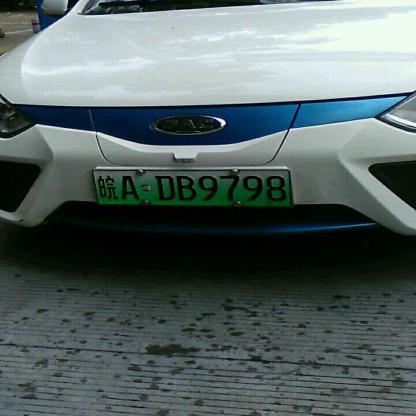lp: (93, 170, 293, 206)
